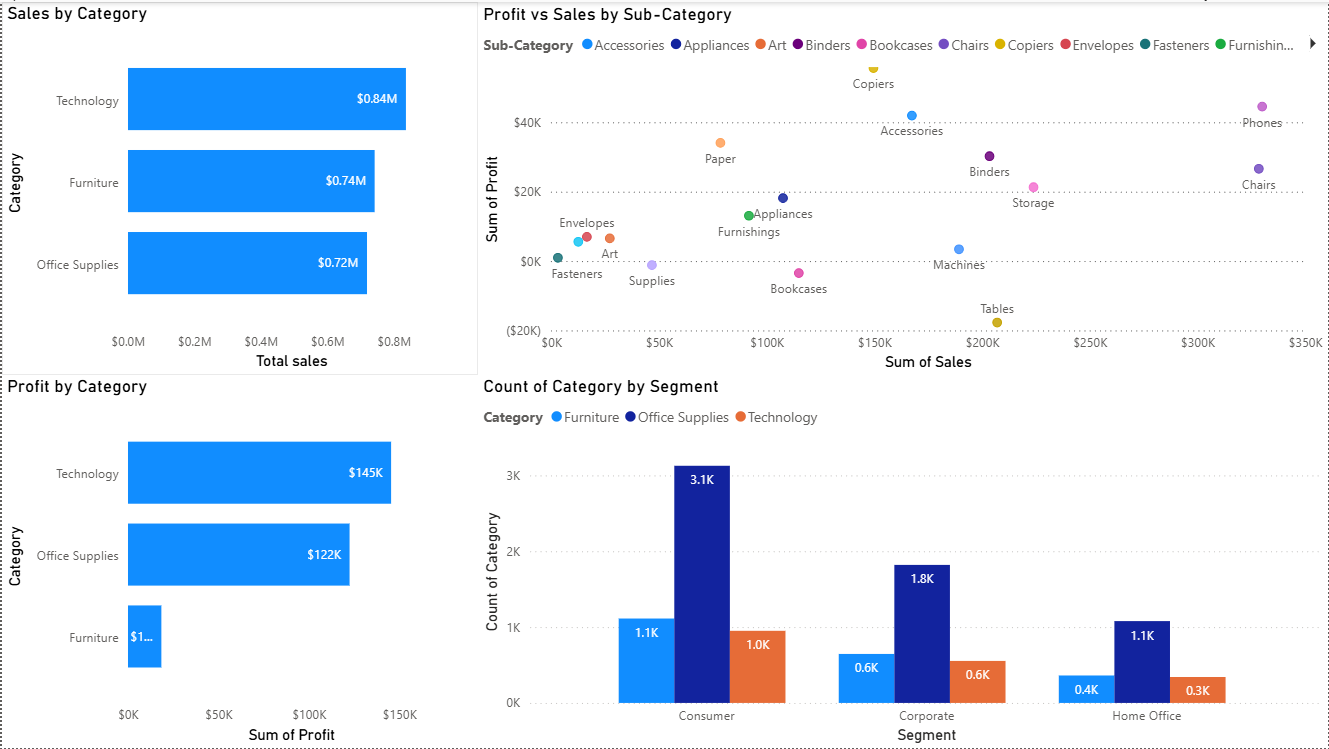

The page's visual inventory and layout, read from the dashboard file:
{"tool":"powerbi","page":{"name":"Product","canvas":[1280,720],"ordinal":1},"visuals":[{"type":"scatterChart","title":"Profit vs Sales by Sub-Category","fields":{"X":["Sum(dataset-superstore.Sales)"],"Y":["Sum(dataset-superstore.Profit)"],"Category":["dataset-superstore.Sub-Category"],"Series":["dataset-superstore.Sub-Category"]},"box":[459.7,1.2,820.4,359.5],"z":0},{"type":"clusteredBarChart","title":" Sales by Category","fields":{"Category":["dataset-superstore.Category","dataset-superstore.Sub-Category"],"Y":["Sum(dataset-superstore.Sales)"]},"box":[0,0,460,360],"z":1000},{"type":"clusteredBarChart","title":"Profit by Category","fields":{"Category":["dataset-superstore.Category","dataset-superstore.Sub-Category"],"Y":["Sum(dataset-superstore.Profit)"]},"box":[0,360.7,460,359.5],"z":2000},{"type":"clusteredColumnChart","title":"Count of Category by Segment ","fields":{"Category":["dataset-superstore.Segment"],"Y":["CountNonNull(dataset-superstore.Category)"],"Series":["dataset-superstore.Category"]},"box":[459.7,360.7,820.4,359.5],"z":2001}]}

Visuals, with their boxes in screenshot pixels (x1, y1, x2, y2), scaled from the page's 1280x720 canvas onto the 1329x749 screenshot:
"Profit vs Sales by Sub-Category" scatterChart: region(477, 1, 1328, 375)
" Sales by Category" clusteredBarChart: region(0, 0, 478, 374)
"Profit by Category" clusteredBarChart: region(0, 375, 478, 748)
"Count of Category by Segment " clusteredColumnChart: region(477, 375, 1328, 748)
